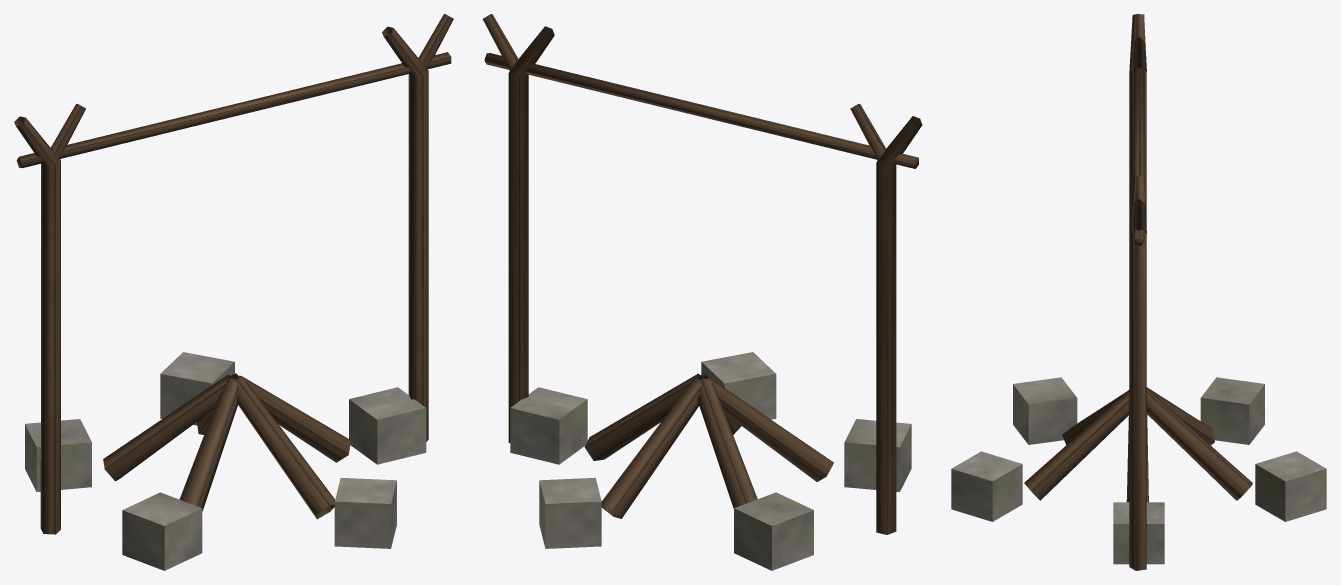
Rendered from Campfire_Spit_1.gltf.
3 renders of one model, left to right at view 1: azimuth 30°, elevation 25°; view 2: azimuth 150°, elevation 25°; view 3: azimuth 270°, elevation 25°, orthographic. The views are drawn at different scales.
Visible parts, largest first — view 1: Campfire_Spit_1; view 2: Campfire_Spit_1; view 3: Campfire_Spit_1.
Part boxes in pixels (x1,y1,x2,y2): Campfire_Spit_1: (14,14,453,570); Campfire_Spit_1: (482,14,922,570); Campfire_Spit_1: (951,14,1326,570).
Bounding box in the file's own units: 1.43 × 1.31 × 1.17.
2 materials, 2 textured.
